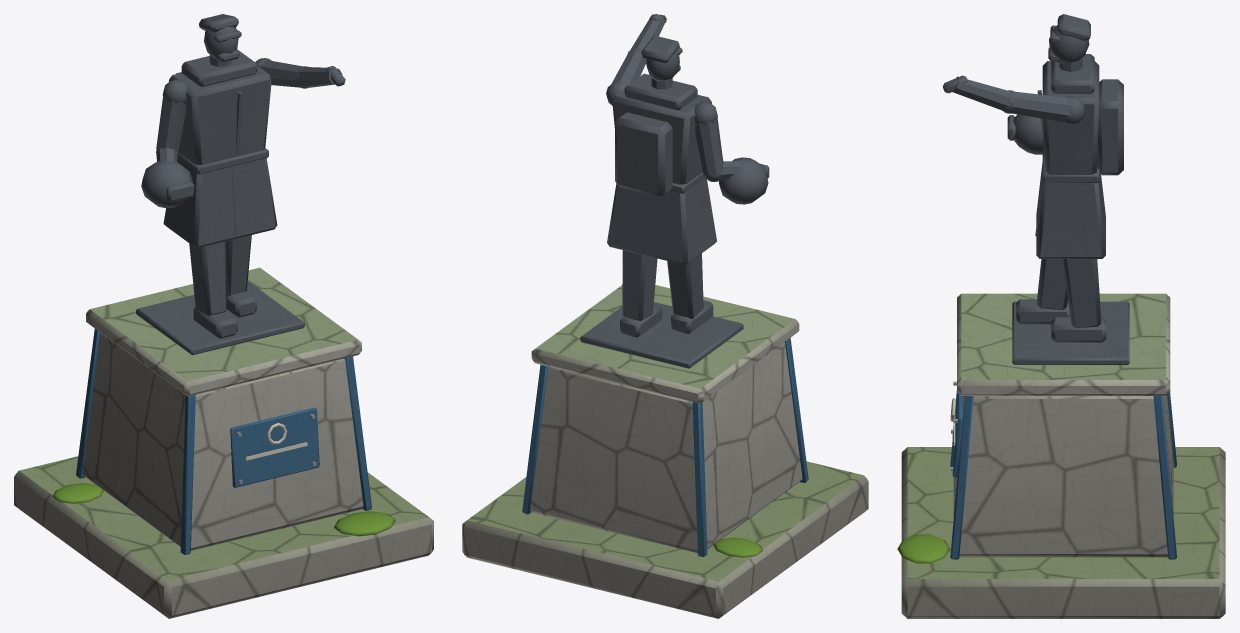
Rendered from statue_colony_founder.glb.
3 views of the same model, side by side, from view 1: azimuth 30°, elevation 25°; view 2: azimuth 150°, elevation 25°; view 3: azimuth 270°, elevation 25° (orthographic). The views are drawn at different scales.
Visible parts, largest first — view 1: statue_colony_founder; view 2: statue_colony_founder; view 3: statue_colony_founder.
Boxes of the visible parts, bbox=[...] form: statue_colony_founder: bbox=[14, 14, 433, 618]; statue_colony_founder: bbox=[462, 14, 868, 618]; statue_colony_founder: bbox=[897, 14, 1225, 618].
Bounding box in the file's own units: 2.2 × 4 × 2.23.
7 materials, 7 textured.
